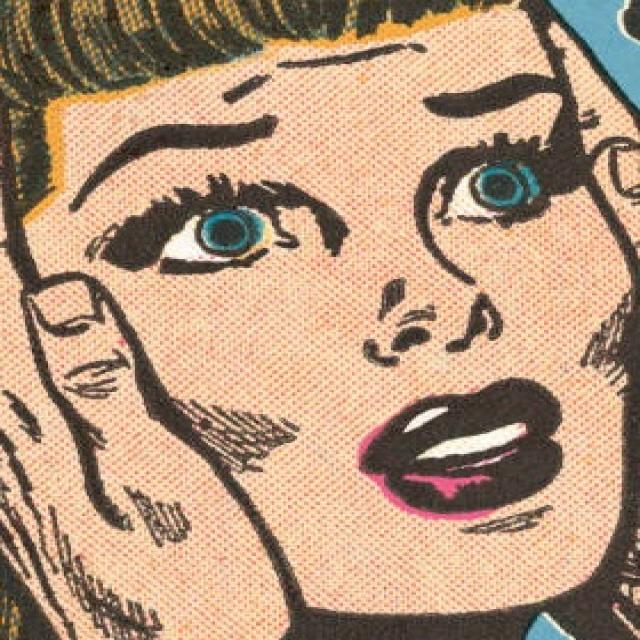Anxiety: (31, 2, 638, 622)
